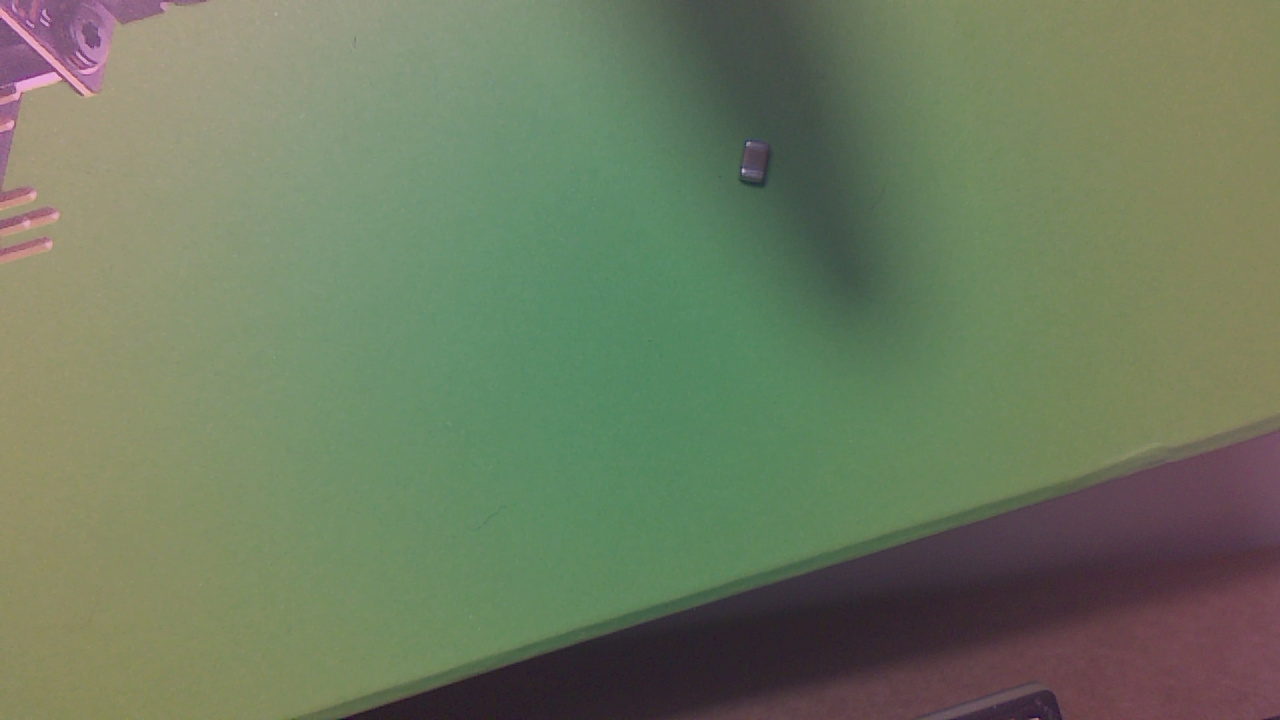Condensator: (742, 143, 778, 189)
